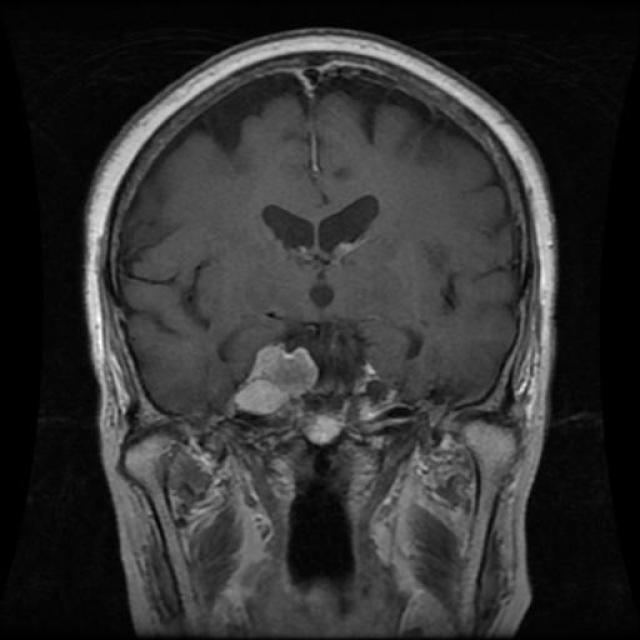Meningioma: (228, 346, 320, 413), (308, 416, 342, 441)
